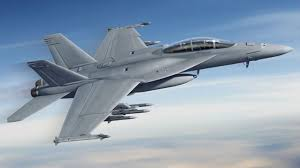fighter: (4, 19, 296, 147)
